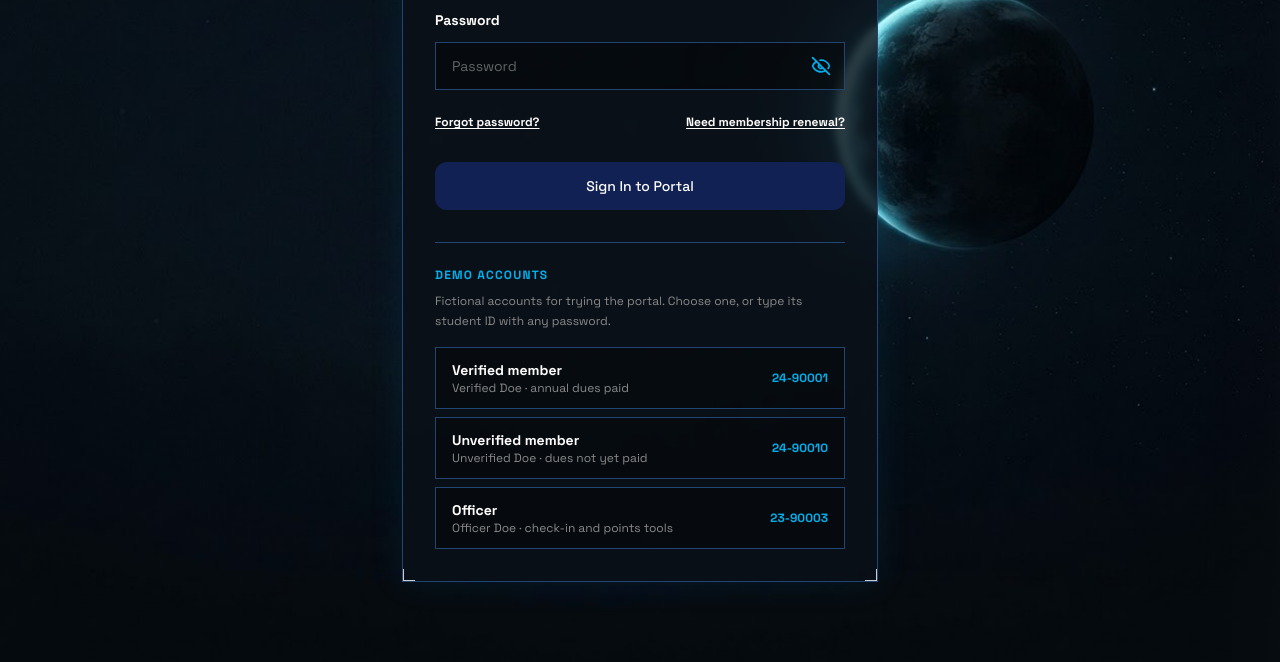
Test case: officer points › shows loading and error feedback
(page scrolled)
Click the button "Officer Officer Doe · check-in and points tools 23-90003".
click(640, 518)  # box [435,487,845,549]
(page scrolled)
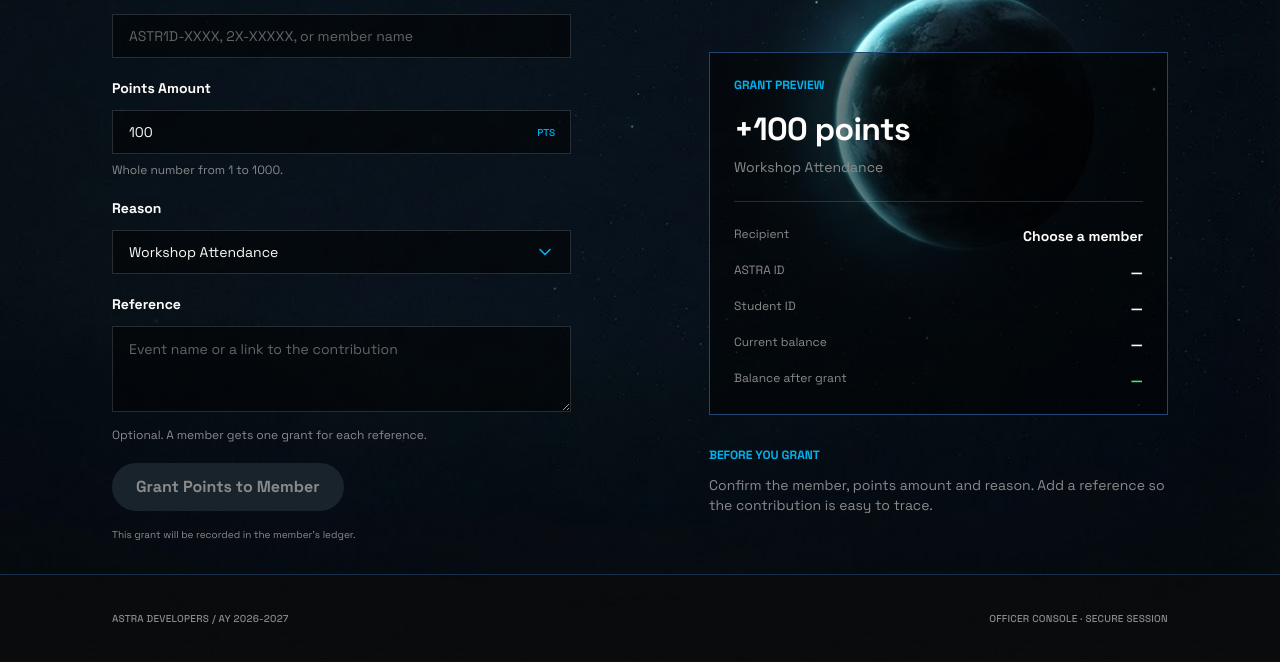
Type "Verified" into the dropdown labelled "Search by ASTRA ID, student ID, or name".
click(342, 36); type("Verified")  # box [112,14,571,58]
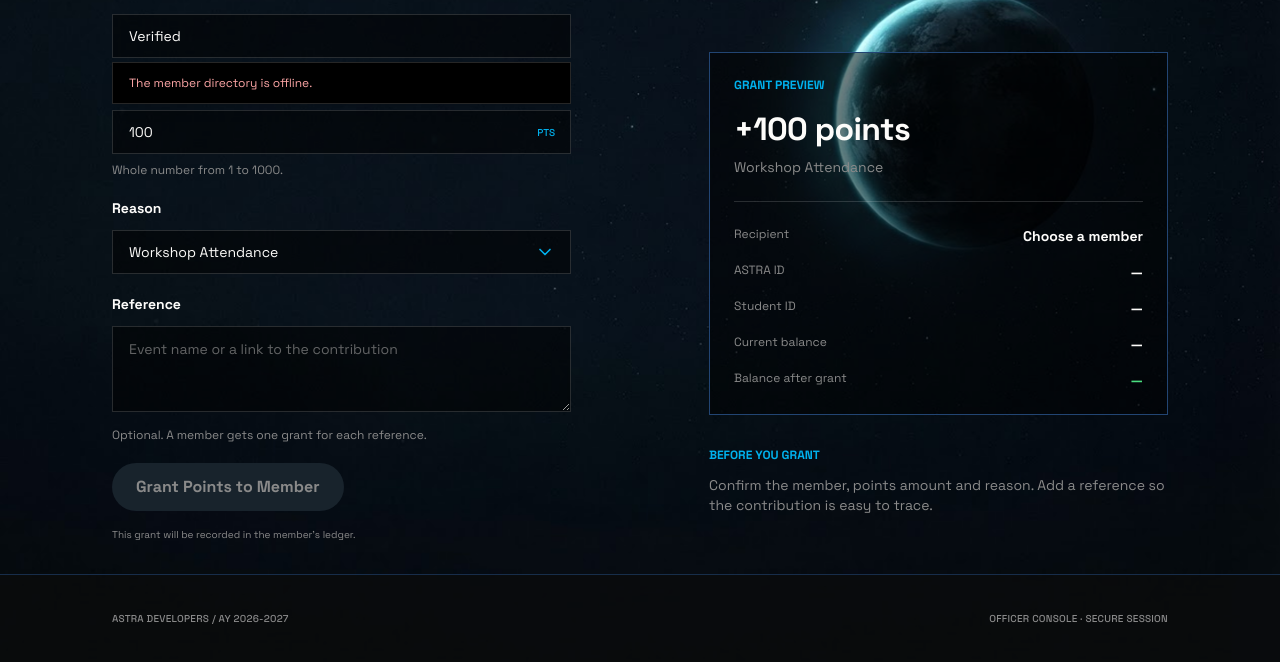
Expected: the message reads "The member directory is offline.", [129,75,312,91]
